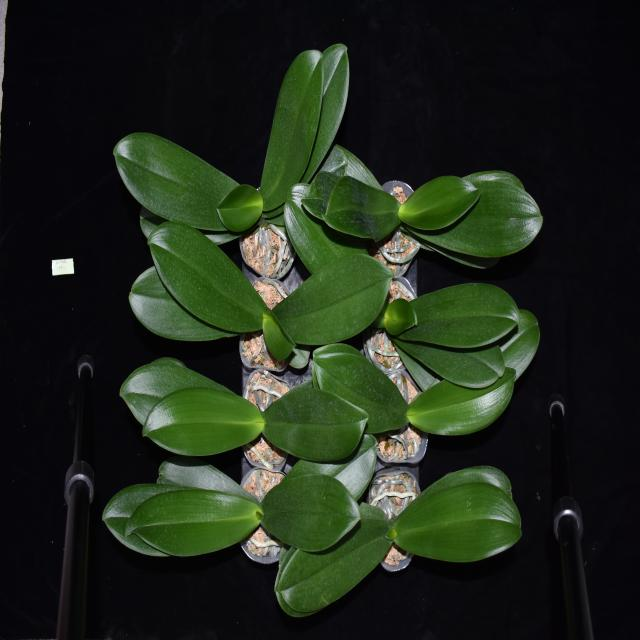leaf: (260, 28, 348, 211), (391, 165, 542, 268), (110, 128, 264, 225), (143, 226, 270, 342), (272, 505, 392, 623), (397, 472, 527, 570), (122, 374, 264, 461), (265, 254, 393, 340), (125, 269, 264, 341), (104, 489, 262, 548), (391, 280, 524, 346), (408, 358, 522, 428), (314, 349, 411, 431), (268, 474, 364, 552), (266, 393, 365, 461), (312, 169, 402, 239), (403, 167, 482, 230), (206, 178, 264, 232)
